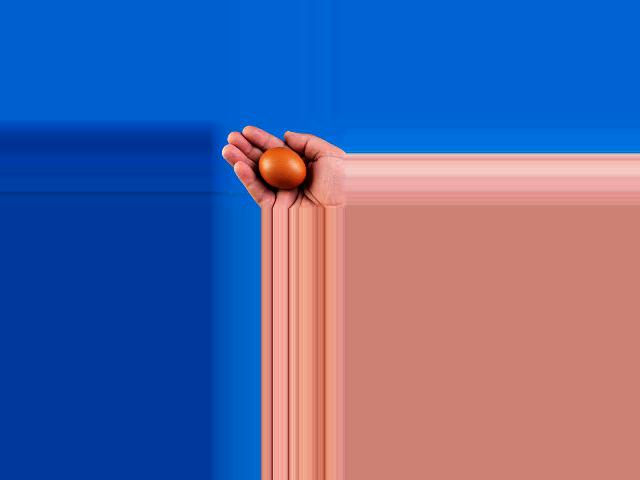egg: (257, 147, 305, 188)
